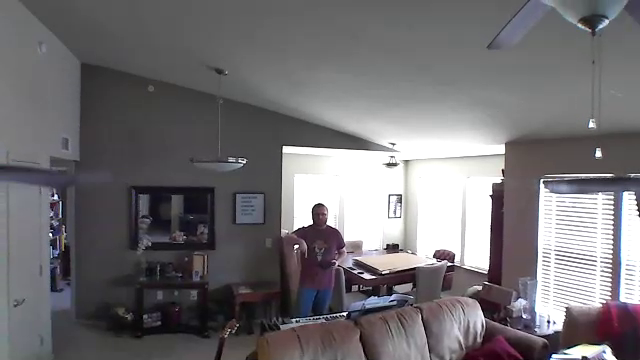down: (295, 235, 313, 260)
